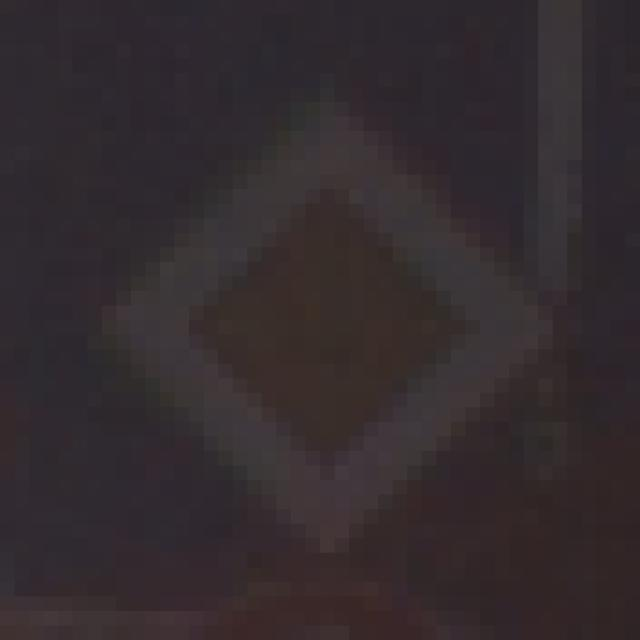Main Road: (74, 74, 568, 554)
